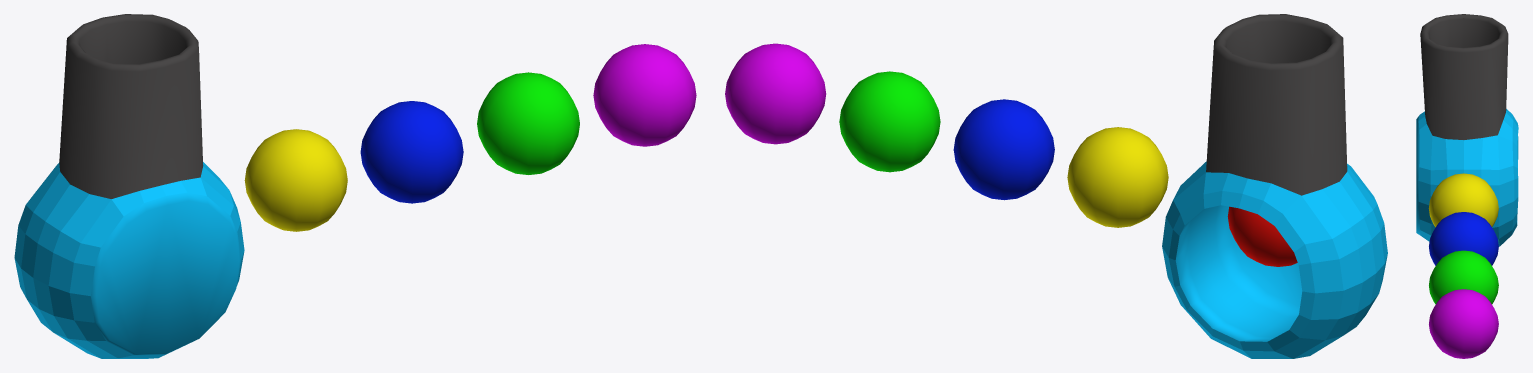
File: Cannon.fbx
3 renders of one model, left to right at view 1: azimuth 30°, elevation 25°; view 2: azimuth 150°, elevation 25°; view 3: azimuth 270°, elevation 25°, orthographic. The views are drawn at different scales.
Parts seen in each view (by area): view 1: Cannon, Blue, Green, Yellow, Purple; view 2: Cannon, Purple, Yellow, Blue, Green, Red; view 3: Cannon, Purple, Green, Blue, Yellow.
Part boxes in pixels (box(x1,y1,x2,y2)): Cannon: box(14, 14, 244, 358); Blue: box(360, 101, 463, 203); Green: box(477, 72, 579, 174); Yellow: box(244, 129, 347, 231); Purple: box(593, 44, 696, 146); Cannon: box(1162, 14, 1387, 358); Purple: box(725, 43, 826, 144); Yellow: box(1067, 127, 1168, 227); Blue: box(953, 99, 1054, 200); Green: box(839, 71, 940, 172); Red: box(1227, 206, 1297, 266); Cannon: box(1416, 14, 1518, 246); Purple: box(1429, 289, 1498, 358); Green: box(1429, 250, 1498, 304); Blue: box(1429, 212, 1498, 265); Yellow: box(1428, 173, 1498, 227).
Bounding box in the file's own units: 564 × 257 × 112.
